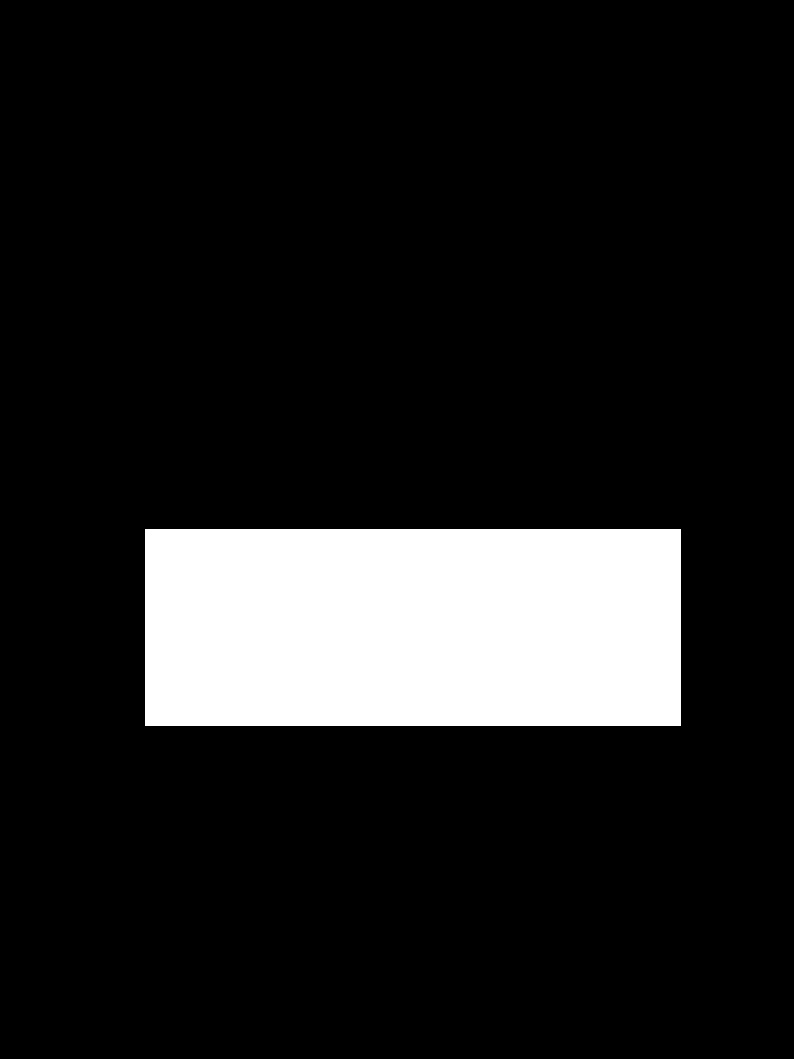table: (145, 529, 680, 725)
